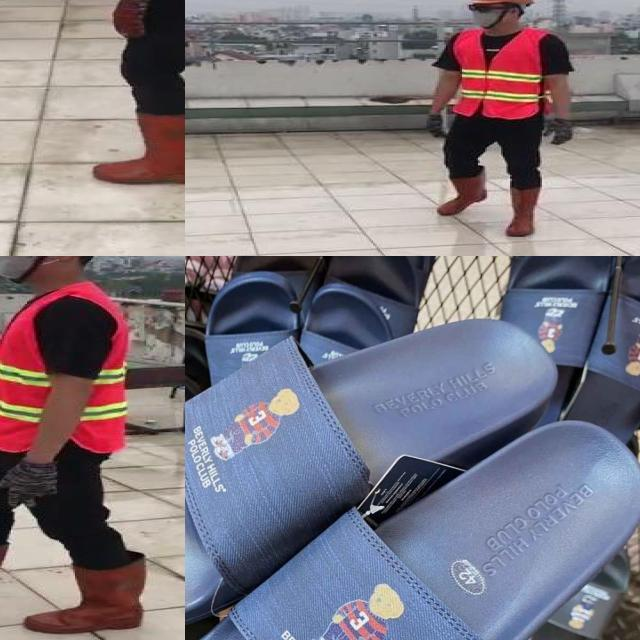Sandals: (185, 283, 640, 640)
boots: (26, 559, 144, 636), (90, 111, 185, 183), (437, 171, 487, 216), (503, 186, 542, 238)
face_mask: (82, 0, 185, 188), (0, 256, 49, 285), (467, 1, 505, 30)
glasses: (462, 1, 506, 15)
hand_glove: (0, 460, 61, 507), (112, 0, 147, 40), (544, 120, 576, 145), (423, 114, 448, 140)
person: (0, 256, 158, 640), (420, 0, 578, 240)
vest: (0, 284, 124, 452), (453, 29, 549, 119)
